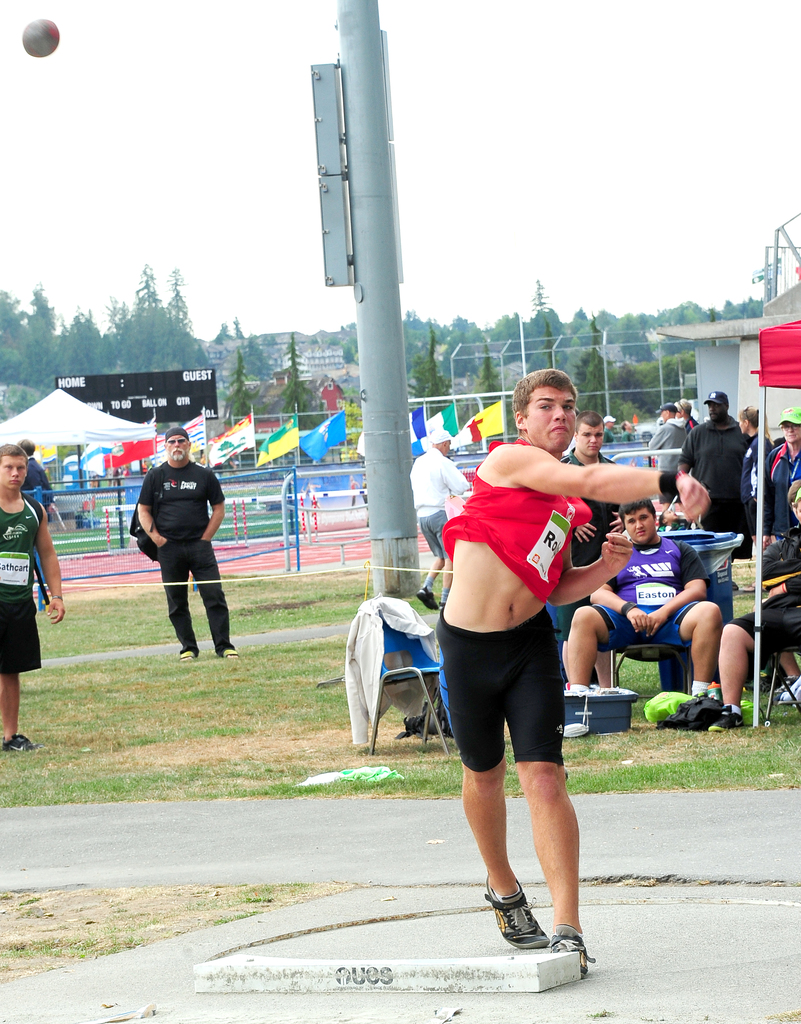Person: (0, 368, 801, 979)
